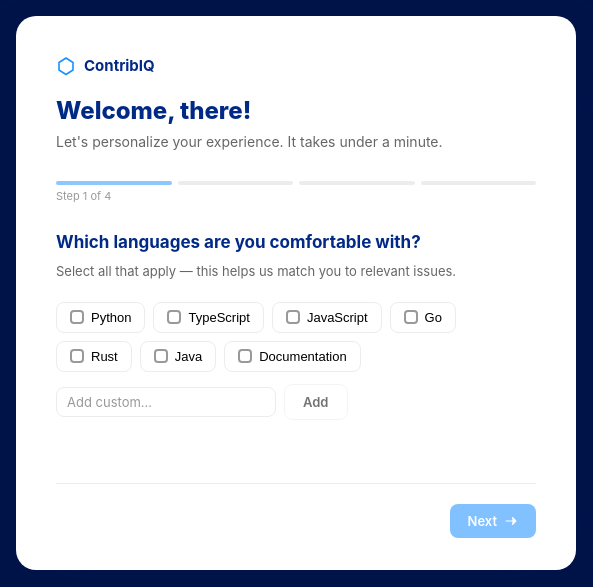
Test: OnboardingSetupPage — step 3 final step › shows "Step 4 of 4" at step 3
The image size is (593, 587).
Click the button "Python" at (101,317), box [56,302,146,333]
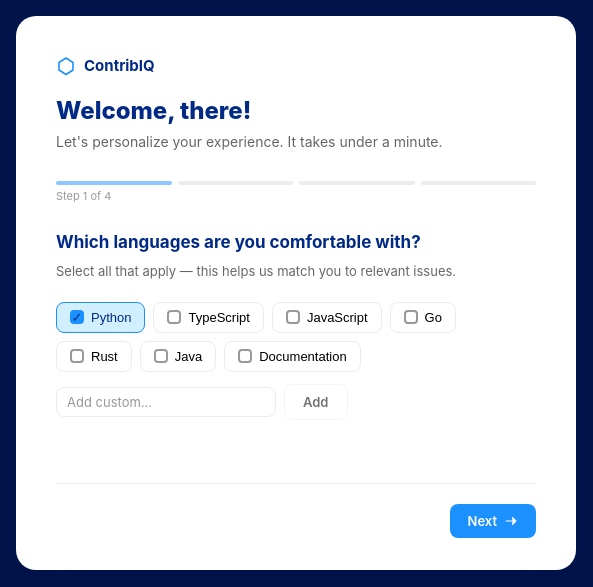
Click the button "Next" at (493,521), box [450,504,536,538]
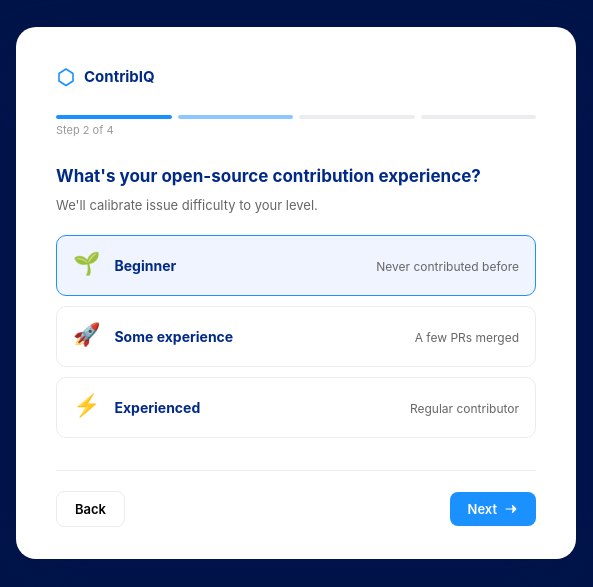
Click the button "Next" at (493,509), box [450,492,536,526]
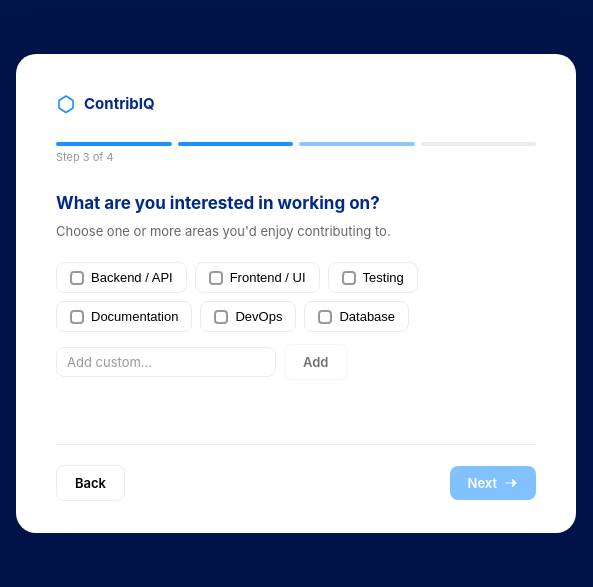
Click the button "Backend / API" at (121,278), box [56,262,187,293]
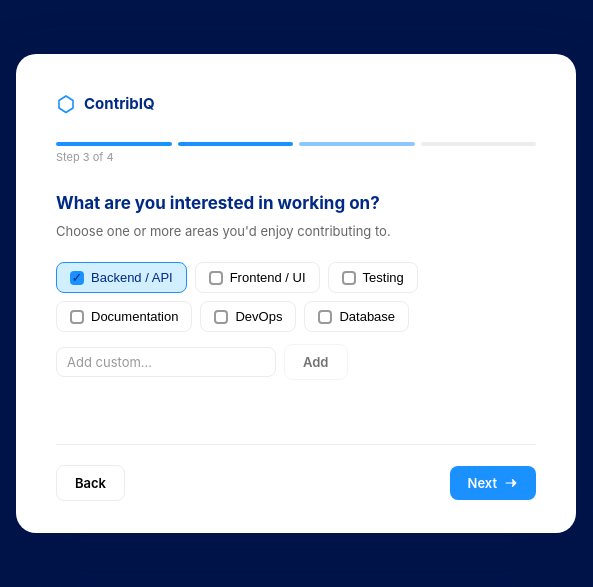
Click the button "Next" at (493,482), box [450,466,536,500]
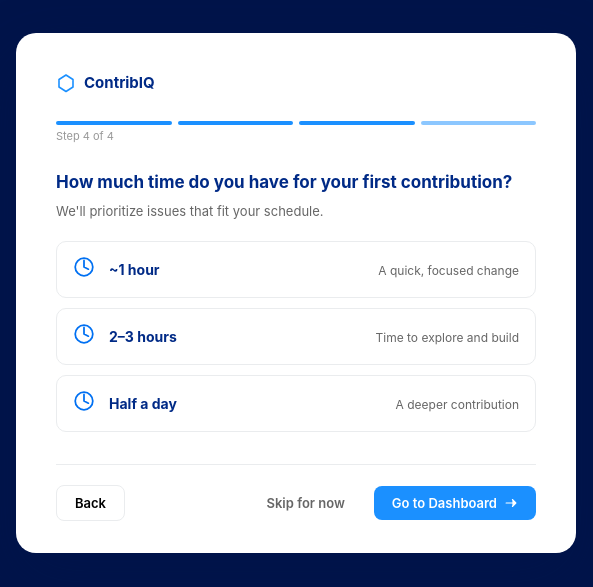
Now the text "Step 4 of 4" is shown, box [56,129,114,143]
